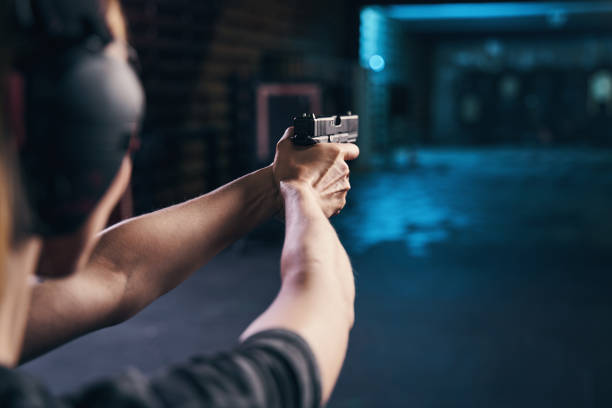gun: (287, 109, 360, 148)
